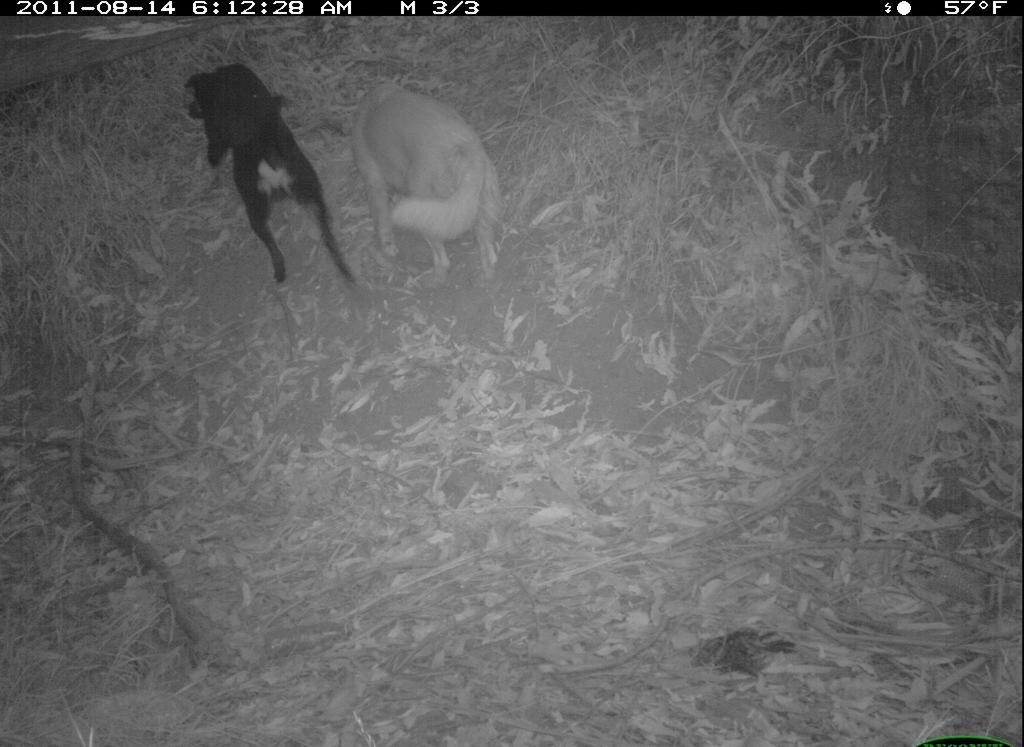dog: (145, 21, 359, 321), (306, 39, 516, 290)
